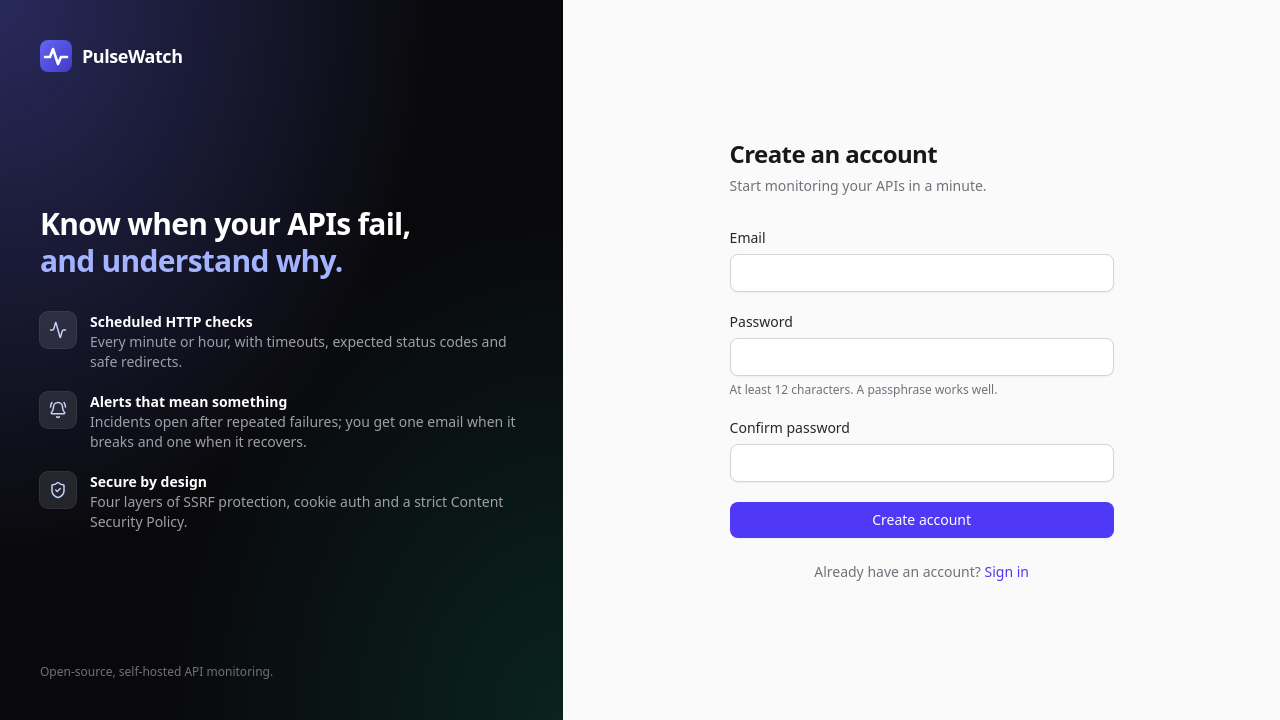
Scenario: sign-in flow › maps server field errors onto the registration form
Type "new@example.com" into the field labelled "Email" at x=922, y=273, box top-left (730, 254), bottom-right (1114, 292)
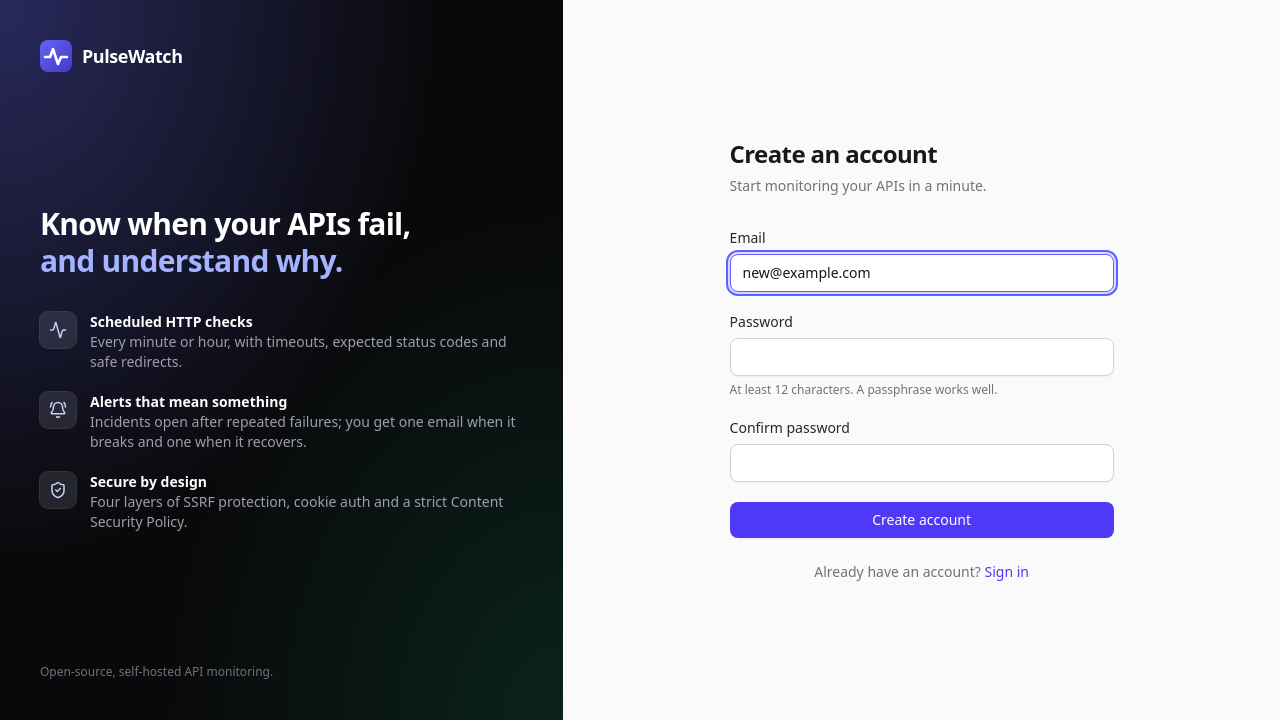
Type "aaaaaaaaaaaa" into the password field labelled "Password" at x=922, y=357, box top-left (730, 338), bottom-right (1114, 376)
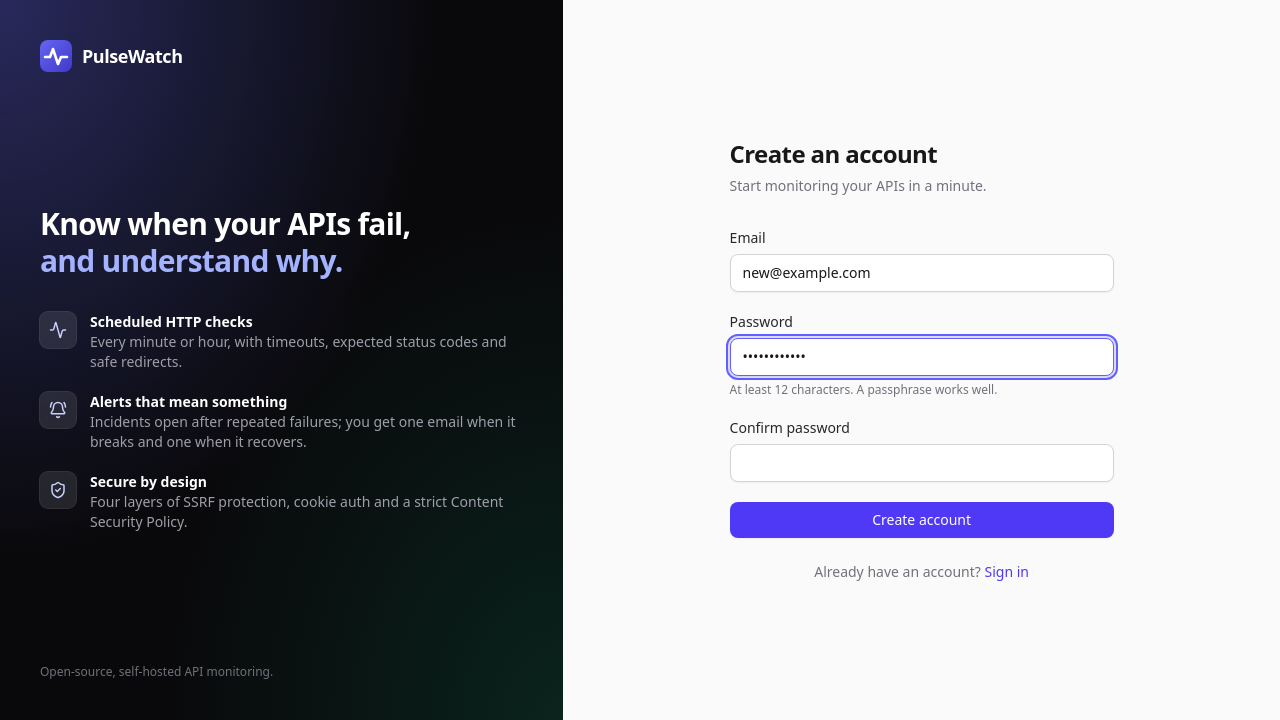
Type "aaaaaaaaaaaa" into the password field labelled "Confirm password" at x=922, y=463, box top-left (730, 444), bottom-right (1114, 482)
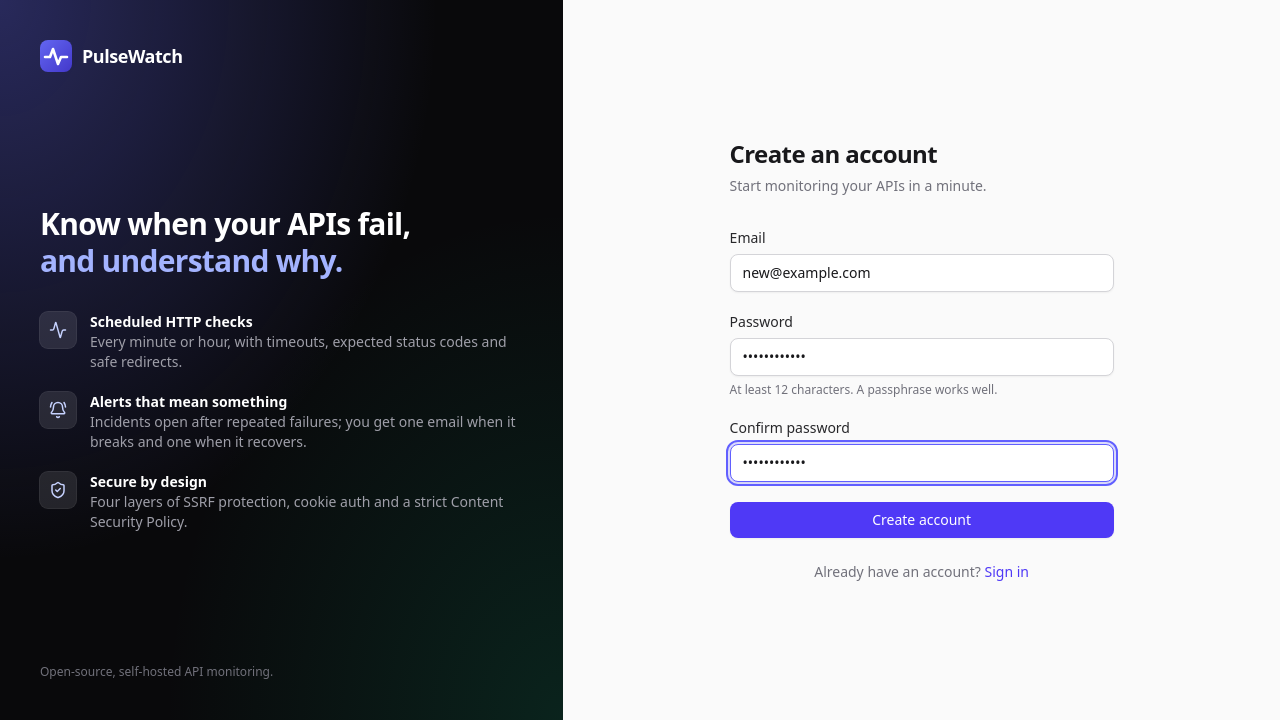
Click the button "Create account" at x=922, y=520, box top-left (730, 502), bottom-right (1114, 538)
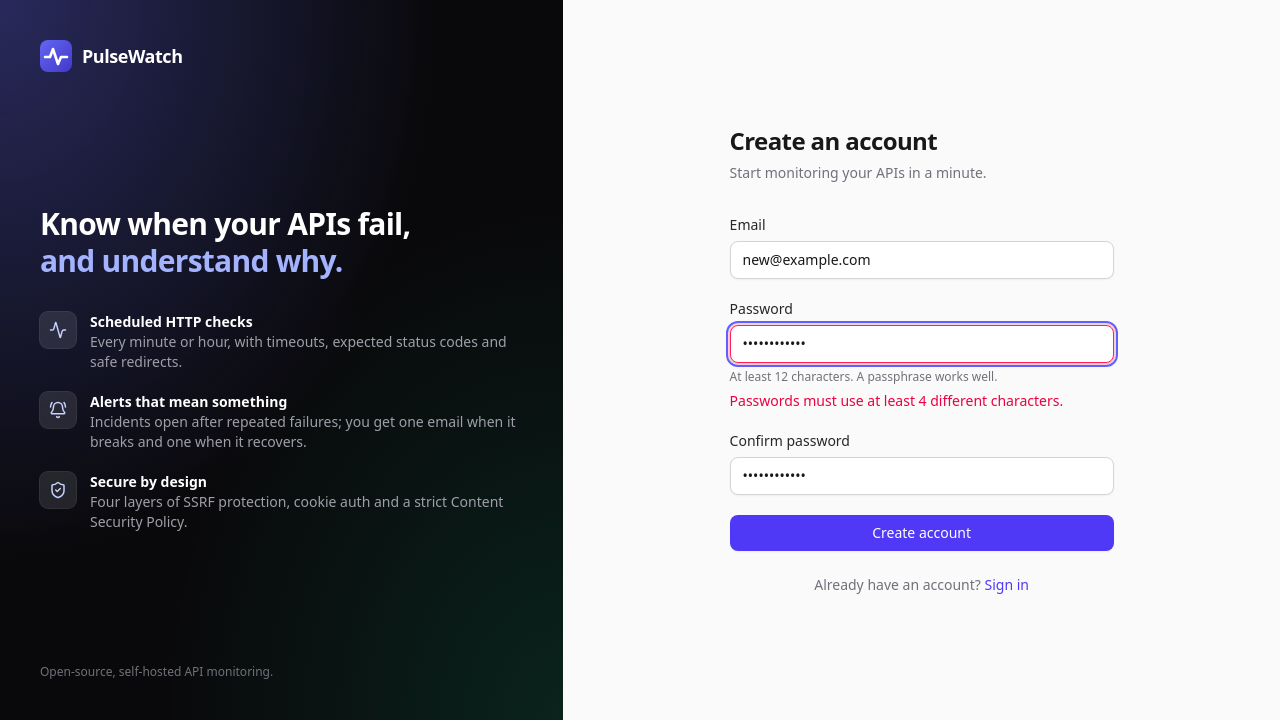
Check: the text "Passwords must use at least 4 different characters." is shown, box top-left (730, 391), bottom-right (1114, 411)
